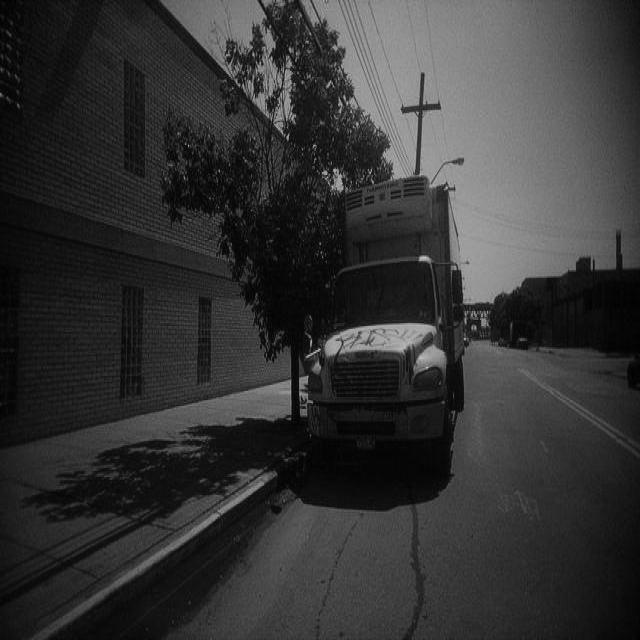vehicle: (305, 174, 466, 484), (516, 337, 528, 348), (464, 332, 468, 347)
